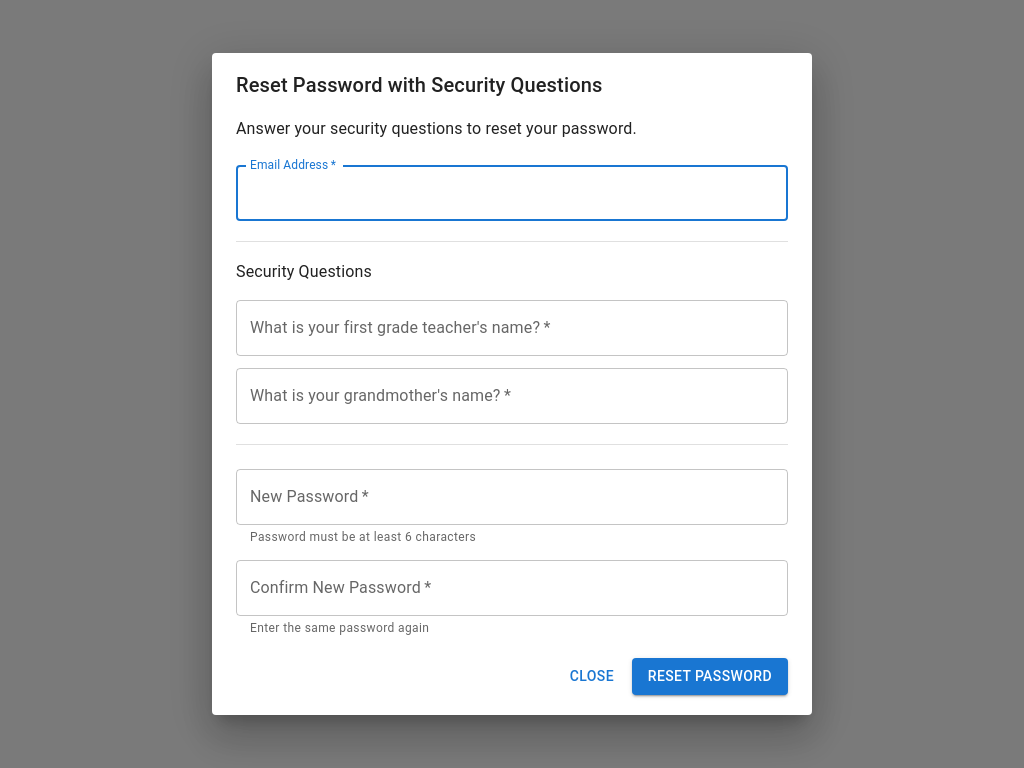
Scenario: ForgotPassword › successfully resets password with correct security answers
Expected: the dialog is shown, [212,53,812,715]
Expected: the password field named "newPassword" is shown, [236,469,788,525]
Note: Fill in all required fields - use exact labels for non-password fields
Type "test@example.com" into the field labelled "Email Address *" at (512, 193), box [236,165,788,221]
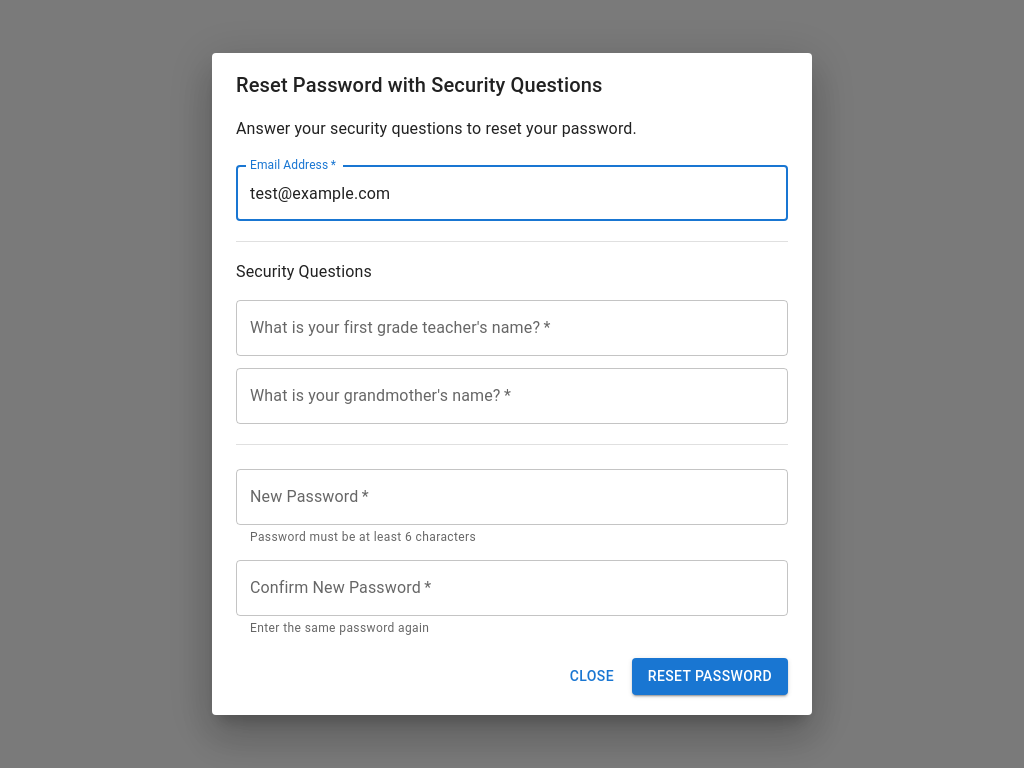
Type "Mrs. Smith" into the field labelled "What is your first grade teacher's name? *" at (512, 328), box [236,300,788,356]
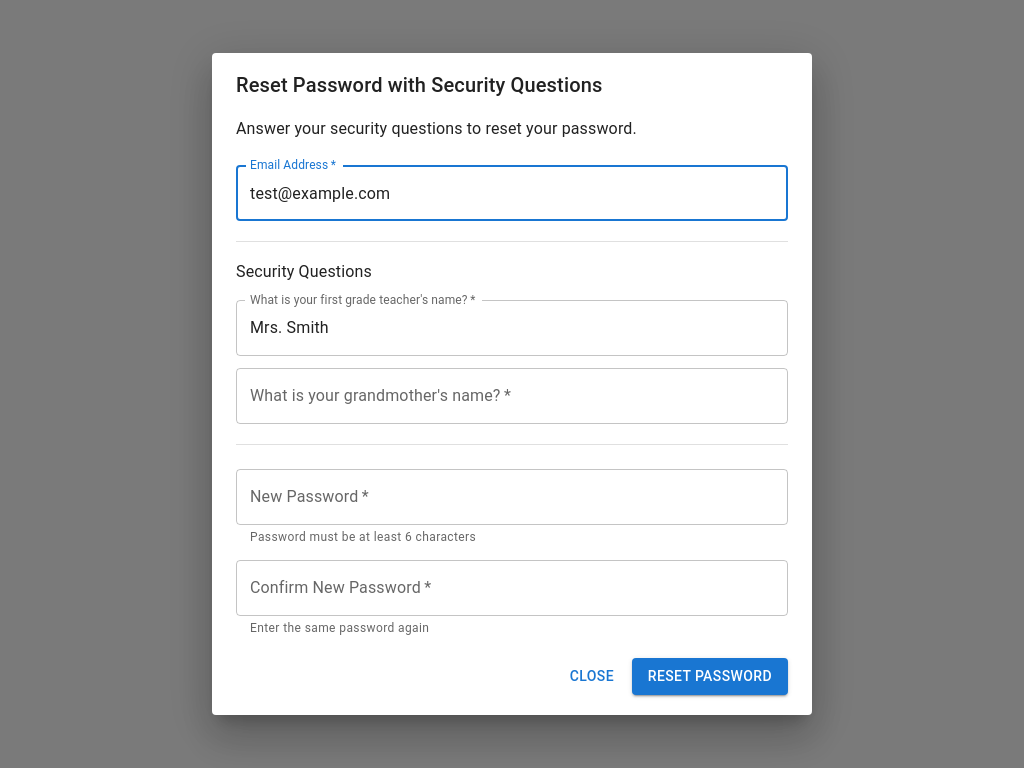
Type "Jane Doe" into the field labelled "What is your grandmother's name? *" at (512, 396), box [236,368,788,424]
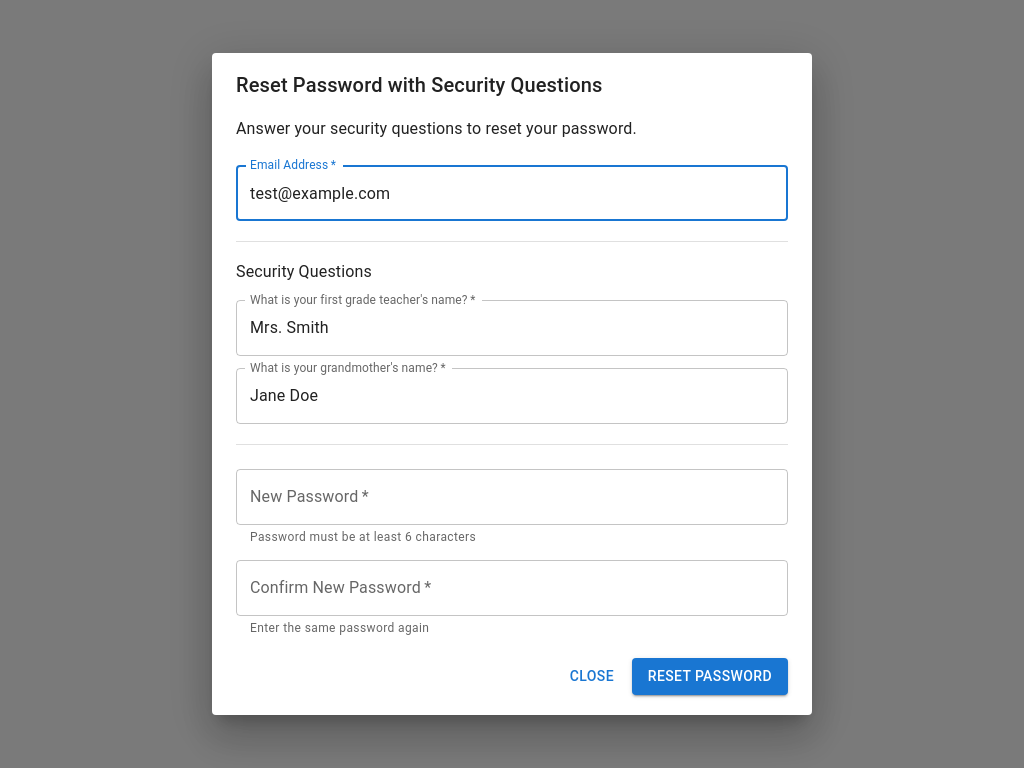
Type "newpassword123" into the password field named "newPassword" at (512, 497), box [236,469,788,525]
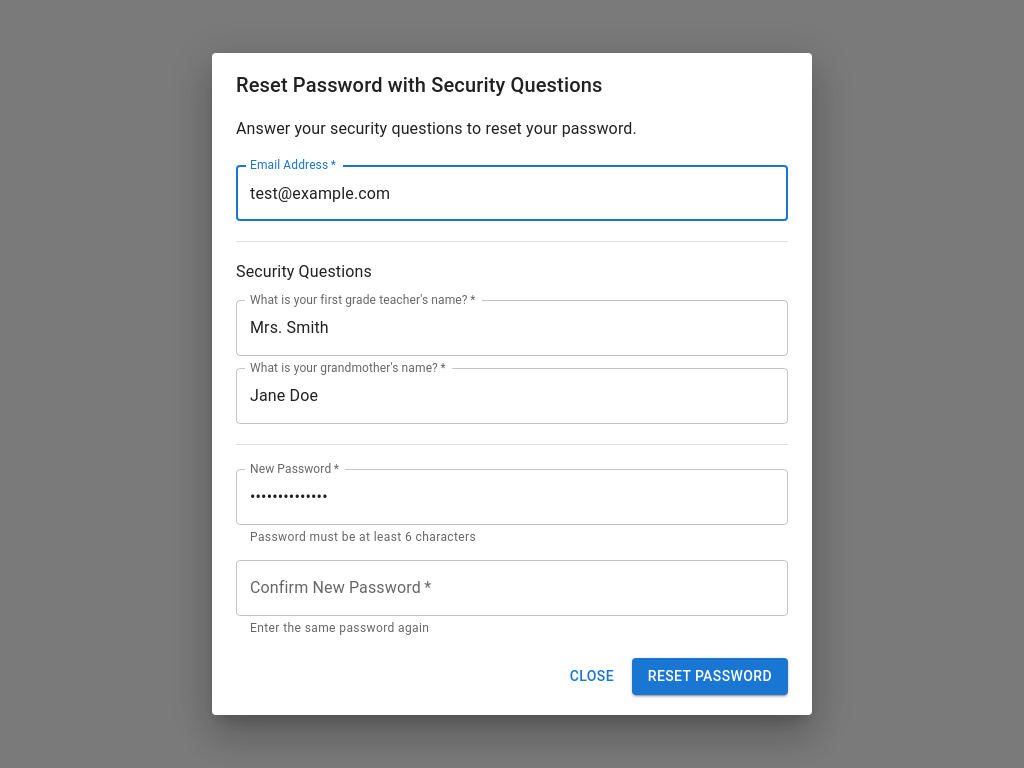
Type "newpassword123" into the password field named "confirmPassword" at (512, 588), box [236,560,788,616]
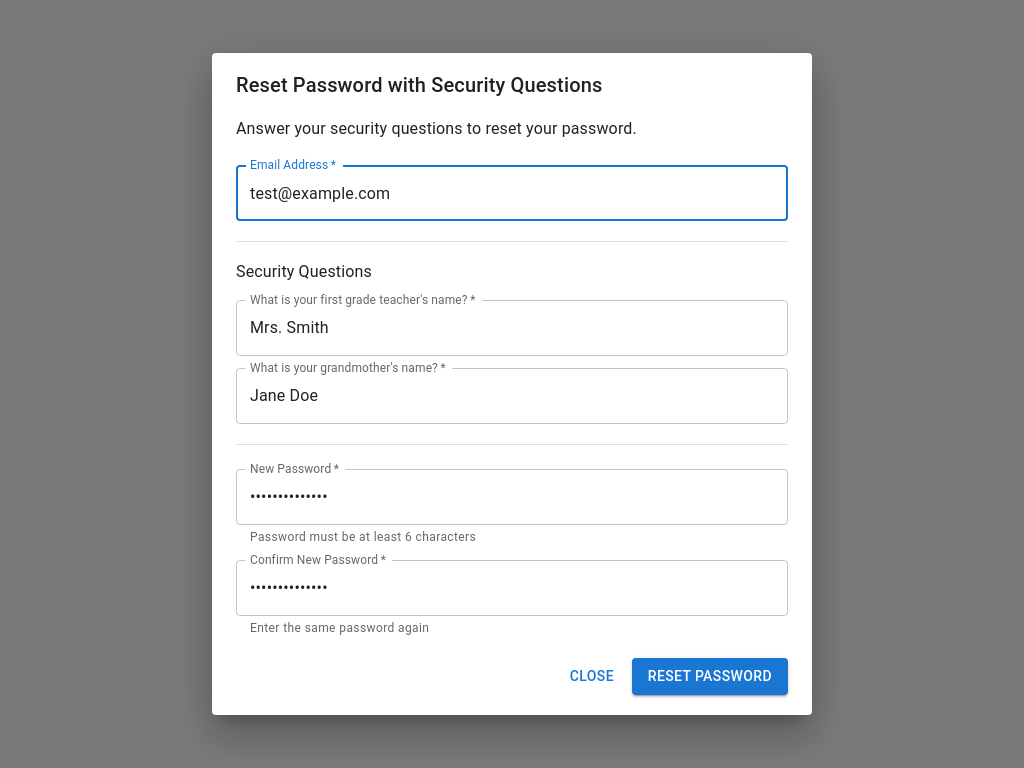
Note: Submit form
Click the button "Reset Password" at (710, 677), box [632,658,788,695]
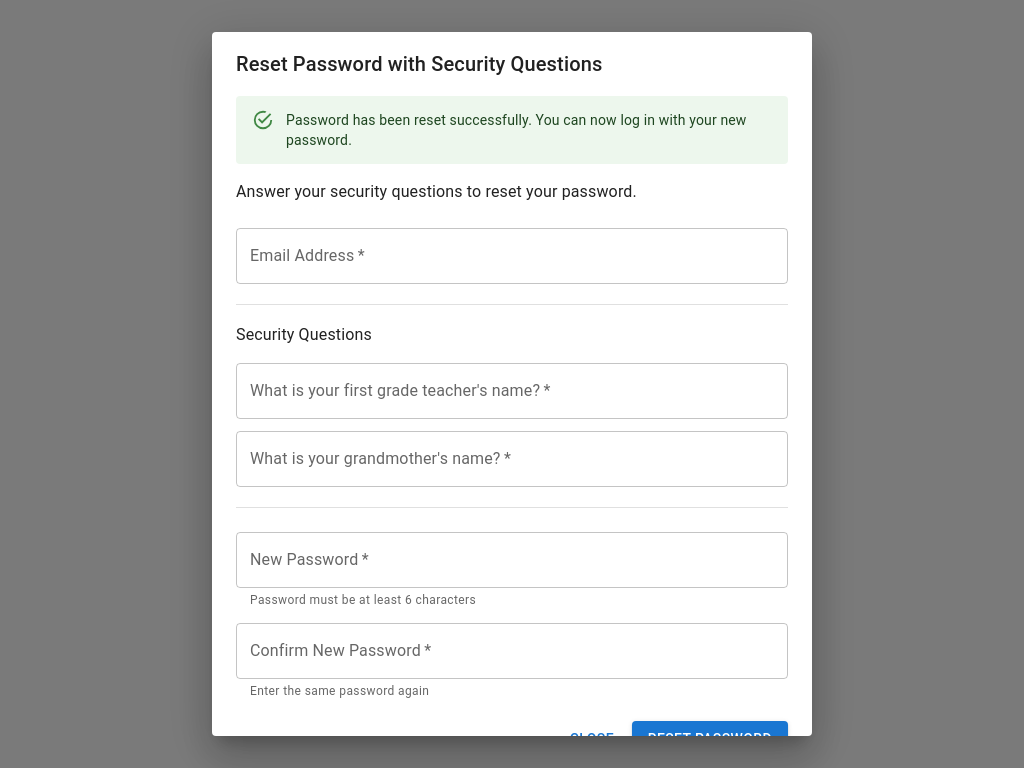
Now the text "Password has been reset successfully" is shown, box [286,112,746,148]
